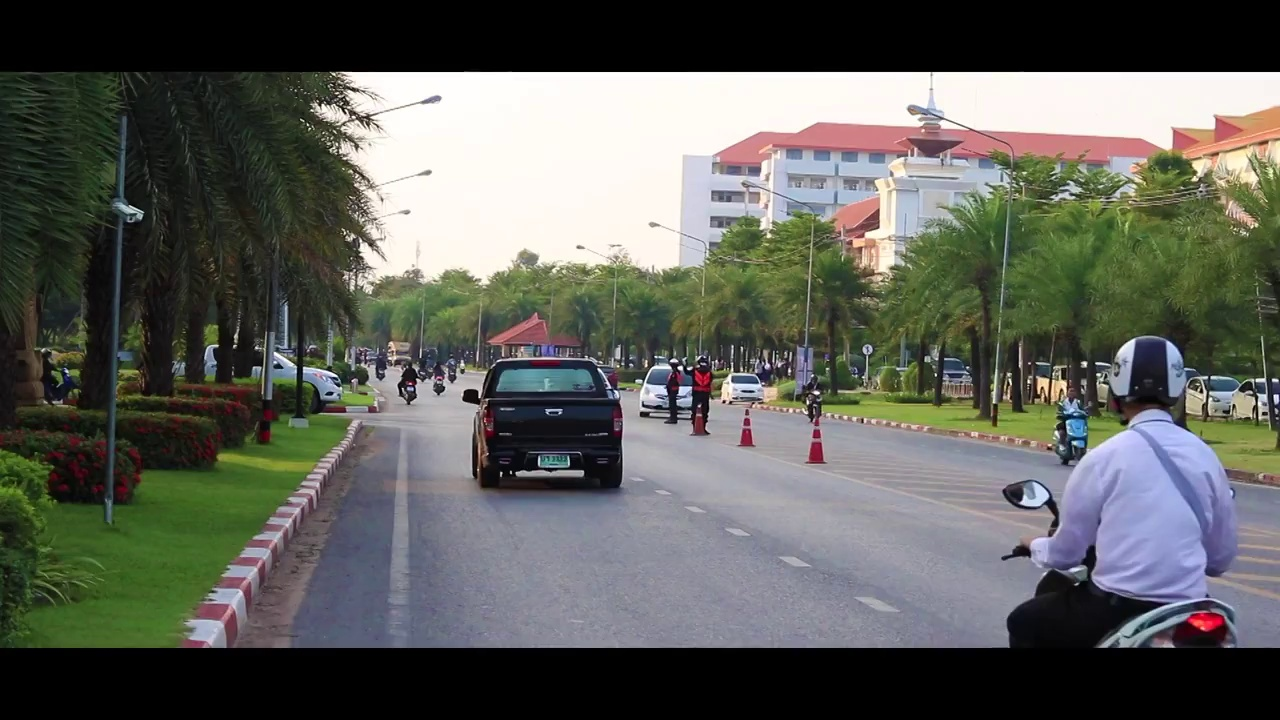helmet: (1106, 332, 1187, 410)
